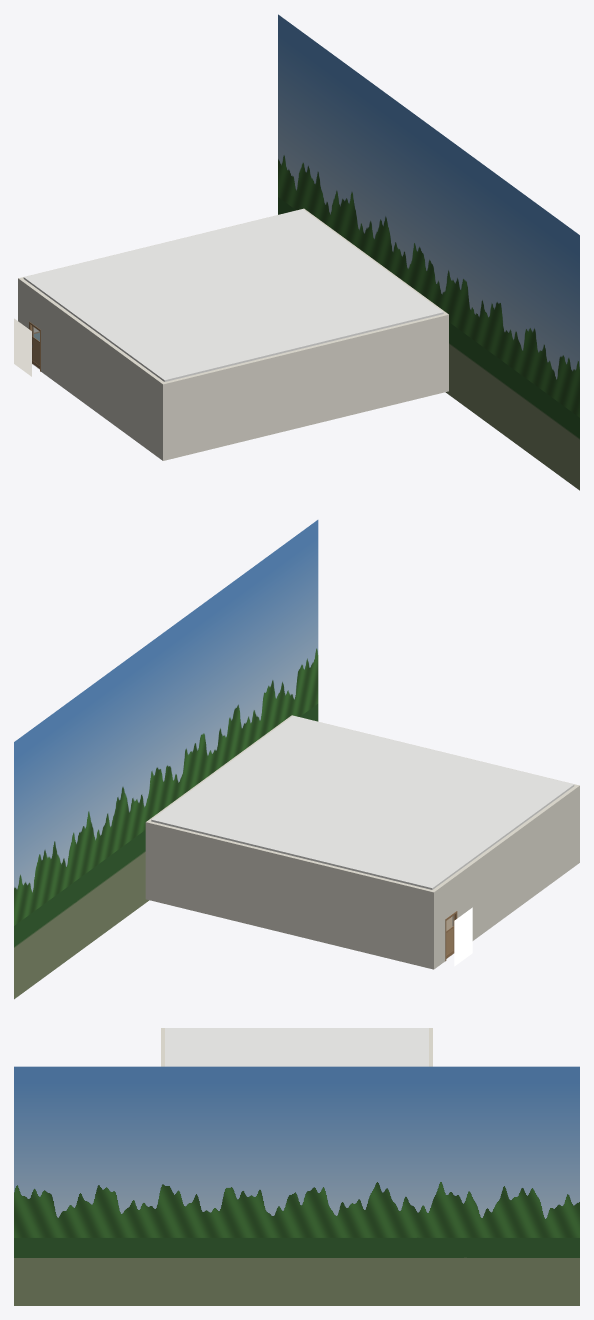
The model's file is MathNinja-Ambiente.fbx.
3 views of the same model, one above another, from view 1: azimuth 30°, elevation 25°; view 2: azimuth 150°, elevation 25°; view 3: azimuth 270°, elevation 25° (orthographic). The views are drawn at different scales.
Parts seen in each view (by area): view 1: Fundo_Ceu, Teto, Parede_Fundo, Parede_Porta, Corredor_Fundo; view 2: Fundo_Ceu, Teto, Parede_Frente, Parede_Porta, Corredor_Fundo; view 3: Fundo_Ceu, Teto.
Part boxes in pixels (left/top/right/bottom): Fundo_Ceu: left=278, top=14, right=579, bottom=490; Teto: left=23, top=209, right=443, bottom=381; Parede_Fundo: left=161, top=313, right=448, bottom=460; Parede_Porta: left=20, top=279, right=164, bottom=459; Corredor_Fundo: left=14, top=318, right=31, bottom=376; Fundo_Ceu: left=14, top=520, right=318, bottom=999; Teto: left=151, top=716, right=574, bottom=889; Parede_Frente: left=145, top=820, right=435, bottom=969; Parede_Porta: left=433, top=786, right=577, bottom=967; Corredor_Fundo: left=454, top=907, right=472, bottom=966; Fundo_Ceu: left=14, top=1066, right=579, bottom=1305; Teto: left=165, top=1028, right=428, bottom=1066.
Size of the model in its own units: 2010 by 1400 by 3000.
Materials: 90 (1 with a texture image).
